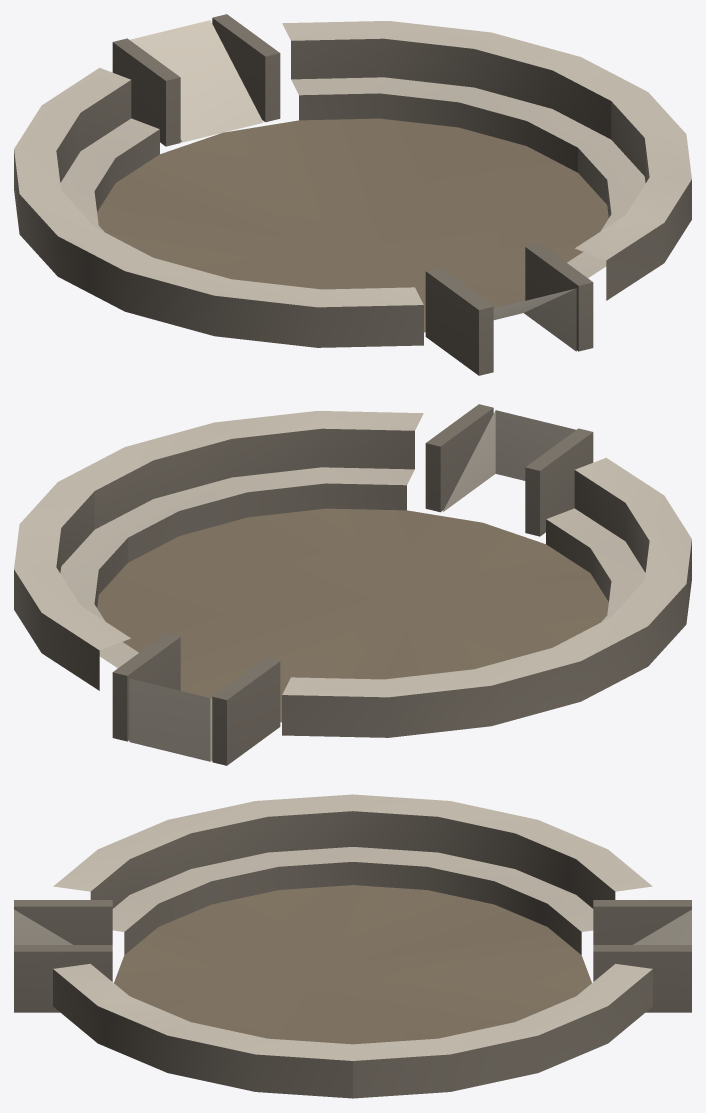
File: caral_circular_plaza_lod1.glb
3 renders of one model, top to bottom at view 1: azimuth 30°, elevation 25°; view 2: azimuth 150°, elevation 25°; view 3: azimuth 270°, elevation 25°, orthographic. The views are drawn at different scales.
Visible parts, largest first — view 1: GEO-Arch_circular_plaza_LOD1; view 2: GEO-Arch_circular_plaza_LOD1; view 3: GEO-Arch_circular_plaza_LOD1.
Part boxes in pixels (x1,y1,x2,y2): GEO-Arch_circular_plaza_LOD1: (14,14,691,375); GEO-Arch_circular_plaza_LOD1: (14,404,691,765); GEO-Arch_circular_plaza_LOD1: (14,794,691,1098).
Size of the model in its own units: 16 by 1.7 by 17.2.
